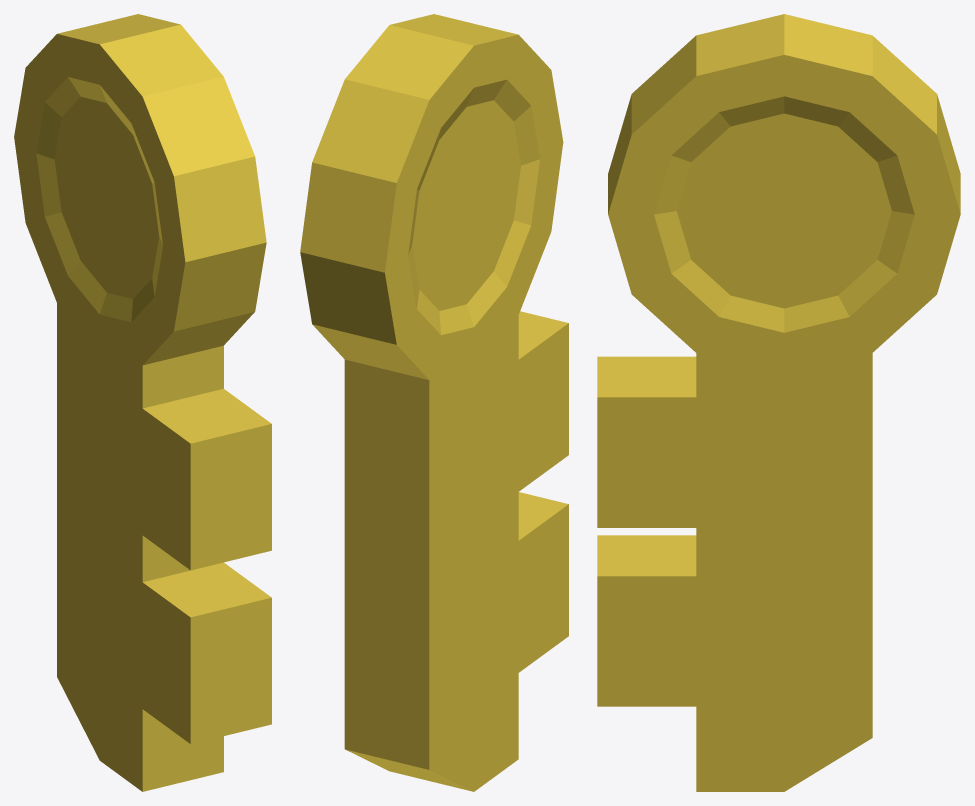
File: key.glb
3 views of the same model, side by side, from view 1: azimuth 30°, elevation 25°; view 2: azimuth 150°, elevation 25°; view 3: azimuth 270°, elevation 25° (orthographic). The views are drawn at different scales.
Visible parts, largest first — view 1: Circle; view 2: Circle; view 3: Circle.
Part boxes in pixels (<box>): Circle: <box>14,14,271,791</box>; Circle: <box>300,14,568,791</box>; Circle: <box>597,14,960,791</box>.
Bounding box in the file's own units: 0.2946 × 2.48 × 1.11.
